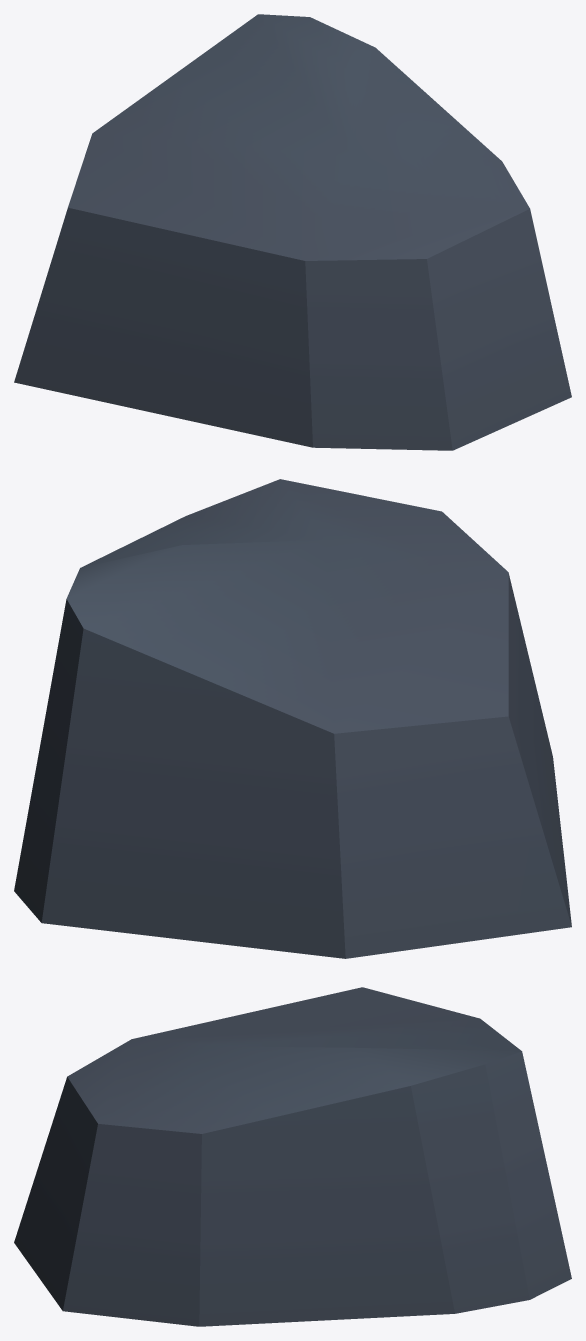
File: Rock_B_3.fbx
The picture shows the model from 3 angles, top to bottom: view 1: azimuth 30°, elevation 25°; view 2: azimuth 150°, elevation 25°; view 3: azimuth 270°, elevation 25°; orthographic projection. The views are drawn at different scales.
Parts seen in each view (by area): view 1: Rock_B_3; view 2: Rock_B_3; view 3: Rock_B_3.
Boxes of the visible parts, <box> form: Rock_B_3: <box>14,14,571,450</box>; Rock_B_3: <box>14,479,571,958</box>; Rock_B_3: <box>14,987,571,1326</box>.
Size of the model in its own units: 87.68 by 45.08 by 99.82.
